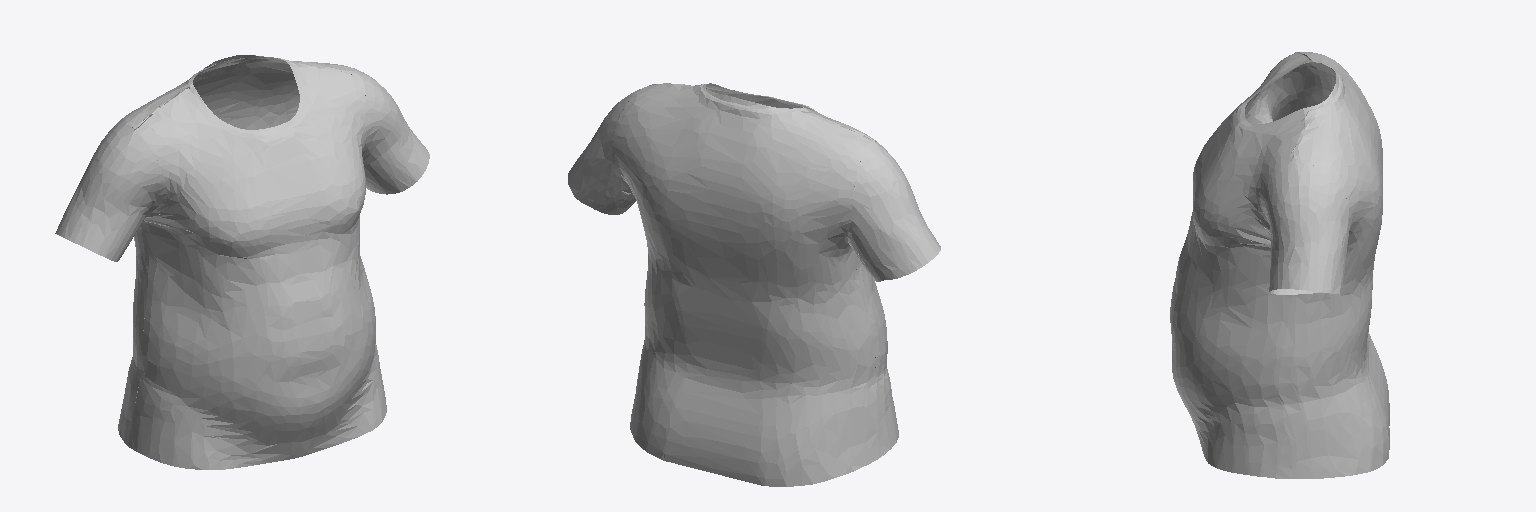
File: md_fat_cloth2_d.obj
3 renders of one model, left to right at view 1: azimuth 30°, elevation 25°; view 2: azimuth 150°, elevation 25°; view 3: azimuth 270°, elevation 25°, orthographic.
Parts seen in each view (by area): view 1: md_fat_cloth2:Mesh1; view 2: md_fat_cloth2:Mesh1; view 3: md_fat_cloth2:Mesh1.
Boxes of the visible parts, <box> form: md_fat_cloth2:Mesh1: <box>55,55,429,469</box>; md_fat_cloth2:Mesh1: <box>568,83,940,486</box>; md_fat_cloth2:Mesh1: <box>1170,52,1389,478</box>.
Bounding box in the file's own units: 744 × 696 × 388.